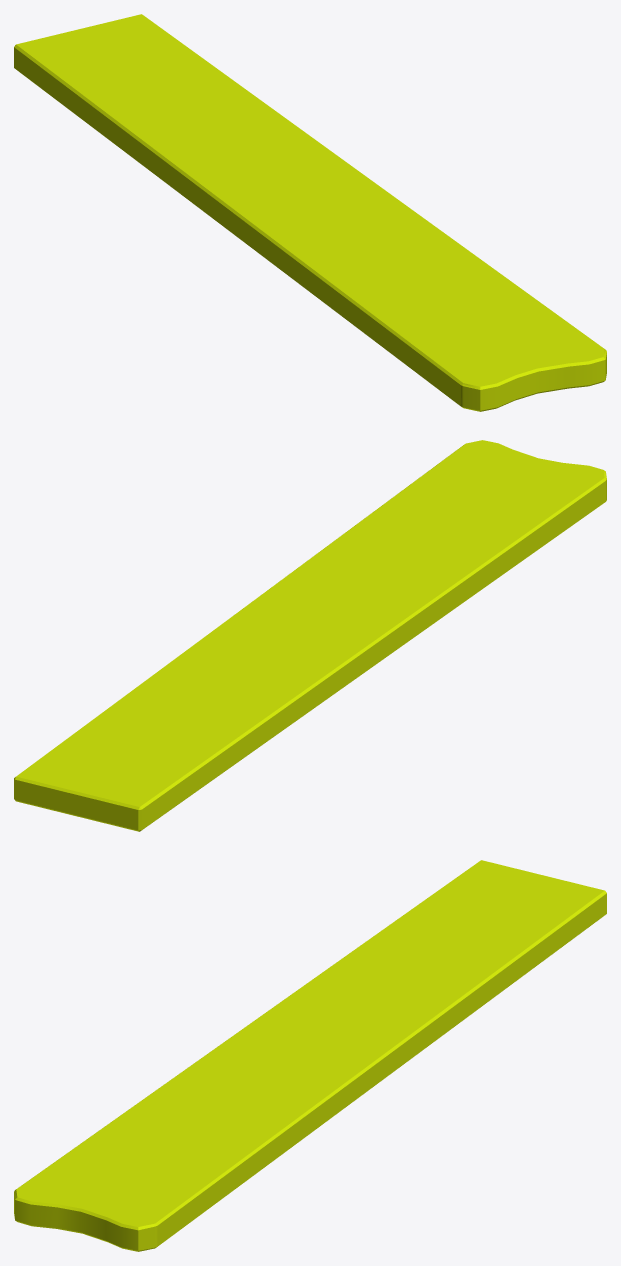
File: Inlane_A.fbx
The picture shows the model from 3 angles, top to bottom: view 1: azimuth 30°, elevation 25°; view 2: azimuth 150°, elevation 25°; view 3: azimuth 330°, elevation 25°; orthographic projection.
Parts seen in each view (by area): view 1: Inlane_A; view 2: Inlane_A; view 3: Inlane_A.
Boxes of the visible parts, bbox=[...] form: Inlane_A: bbox=[14, 14, 606, 411]; Inlane_A: bbox=[14, 440, 606, 831]; Inlane_A: bbox=[14, 860, 606, 1251].
Bounding box in the file's own units: 1.72 × 0.2846 × 9.65.
